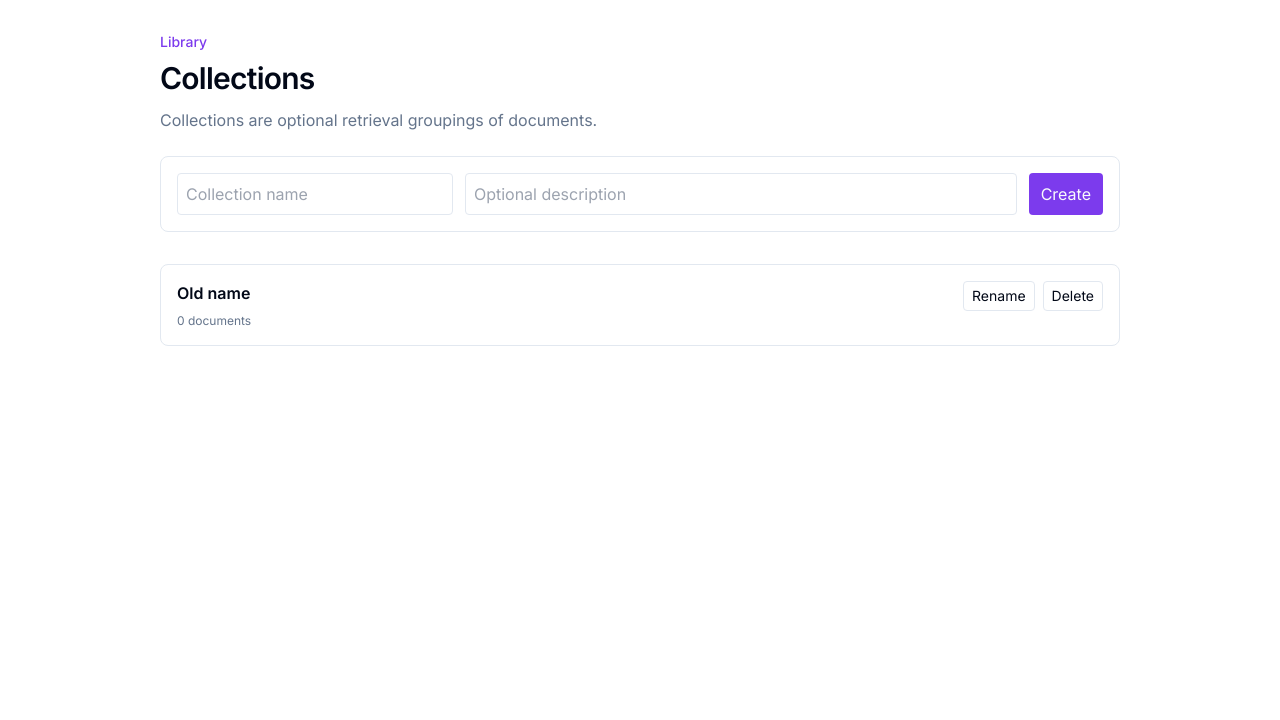
Test: document-library workspace › keeps a rename dialog and its input available after an API error
Click the button "Rename".
click(999, 296)  # box [963,281,1034,311]
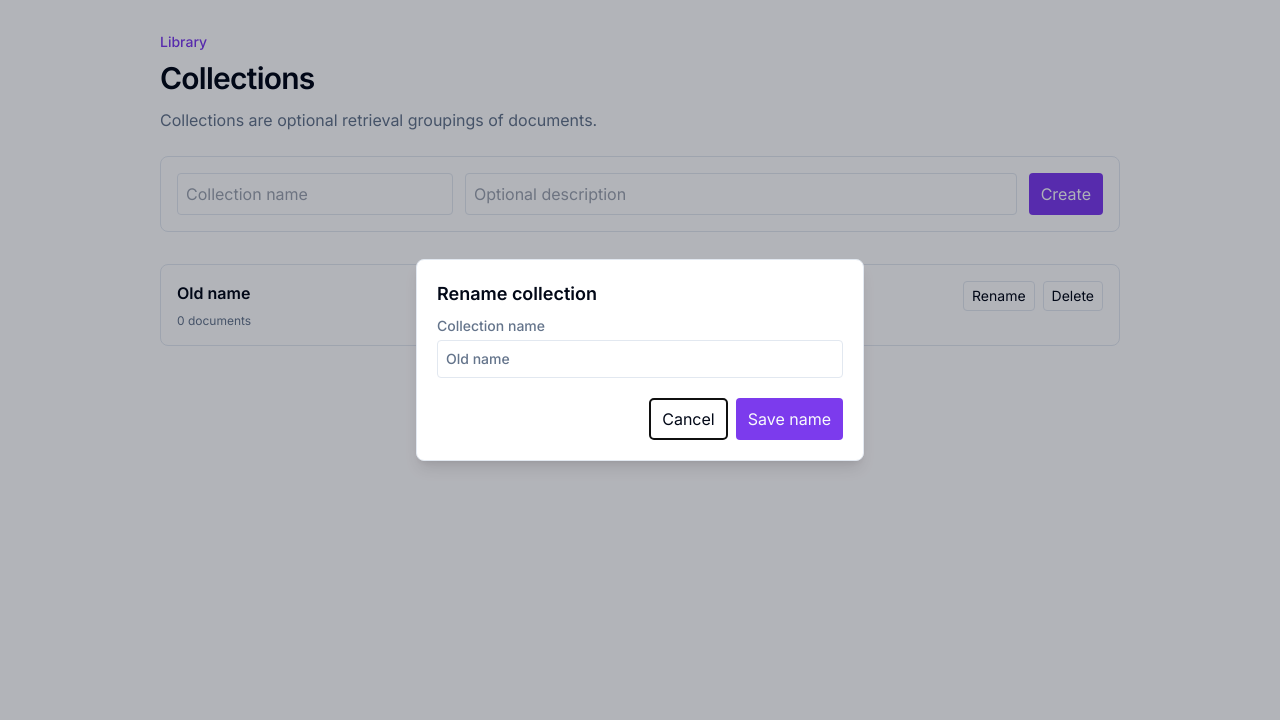
Replace the text in the field named "New collection name" with "New name" at (640, 359), box [437,340,843,378]
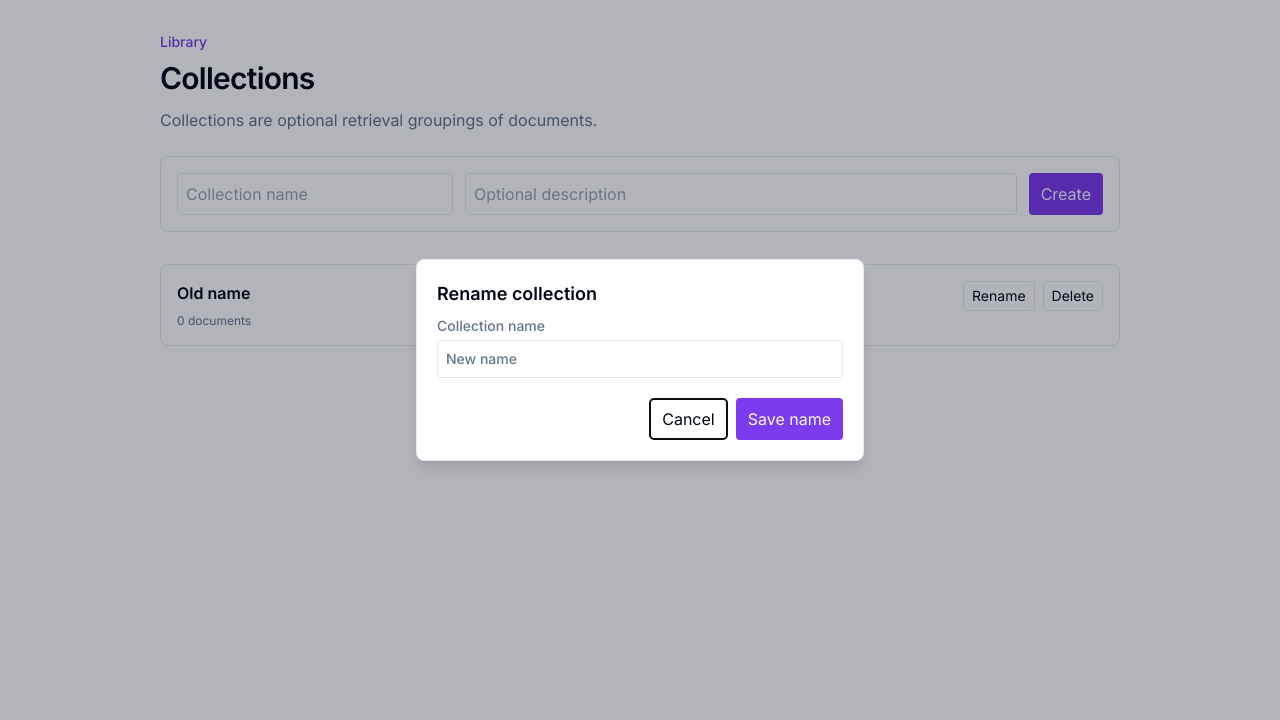
Click the button "Save name".
click(789, 419)  # box [736,398,843,440]
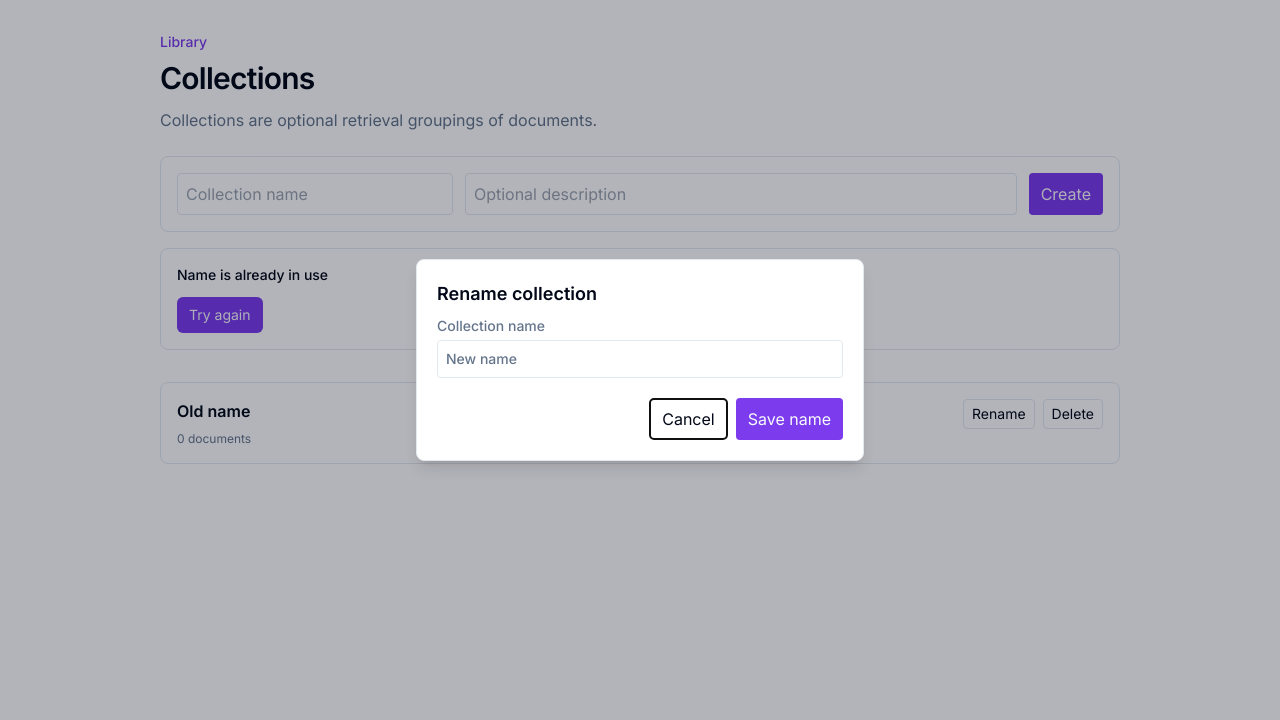
Now the dialog "Rename collection" is shown
Now the text "Name is already in use" is shown, box [177,266,328,283]
